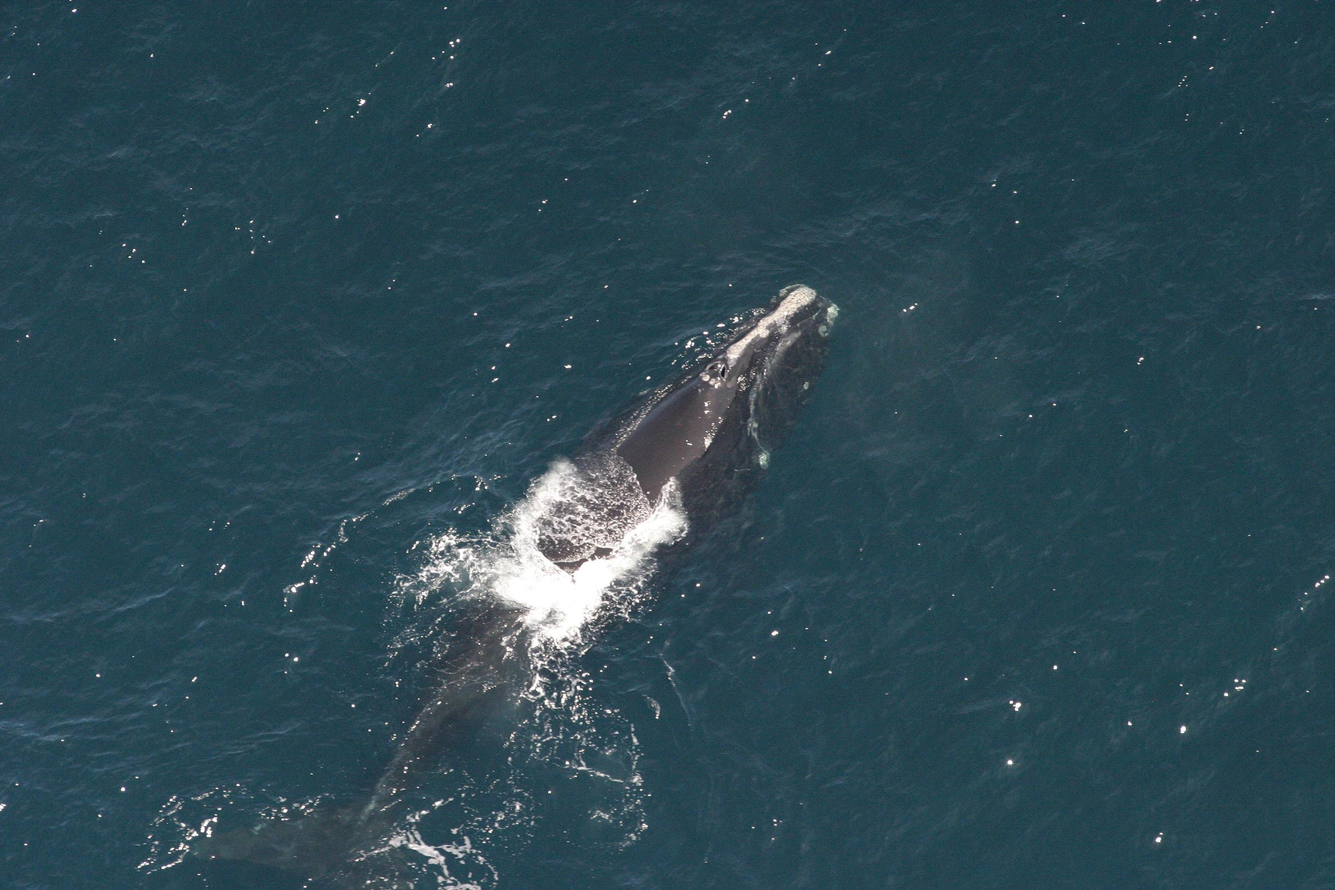whale: (175, 277, 843, 890)
